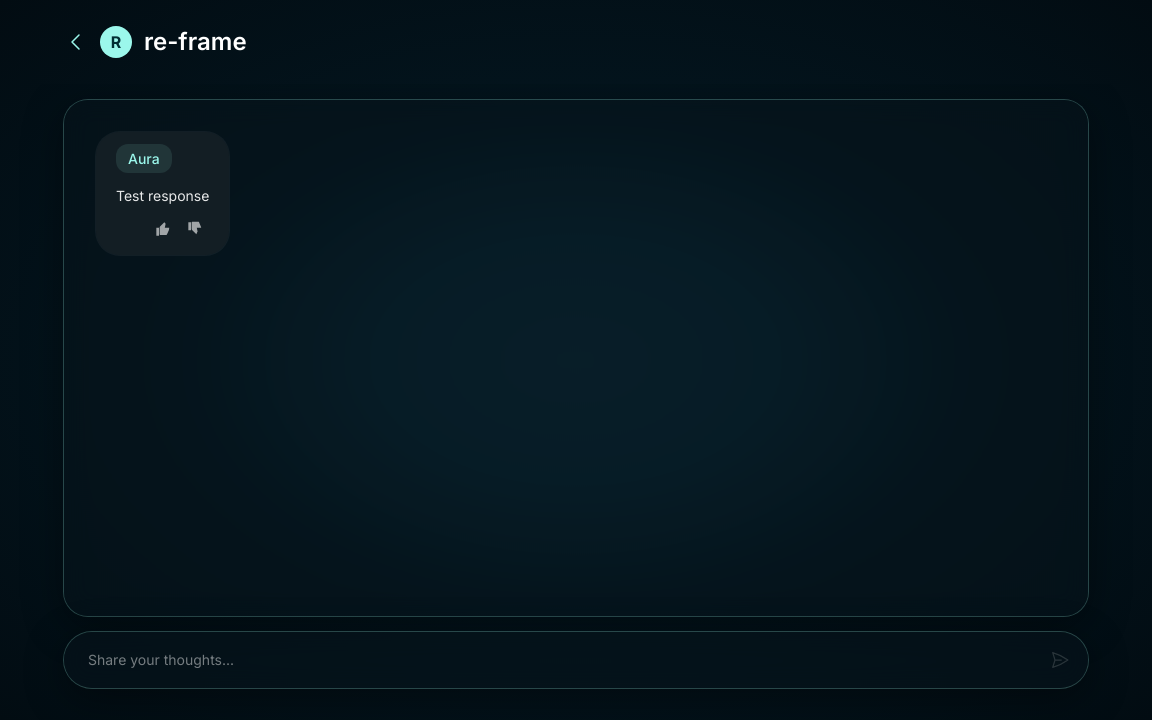
Test: ChatClient - Inline Feedback › allows entering and sending feedback with note
The width and height of the screenshot is (1152, 720).
Check: the text "Test response" is shown, box [116,185,209,207]
Click thumbs down
Click the button named "Thumbs down". click: click(195, 229)
box: [181,215,209,243]
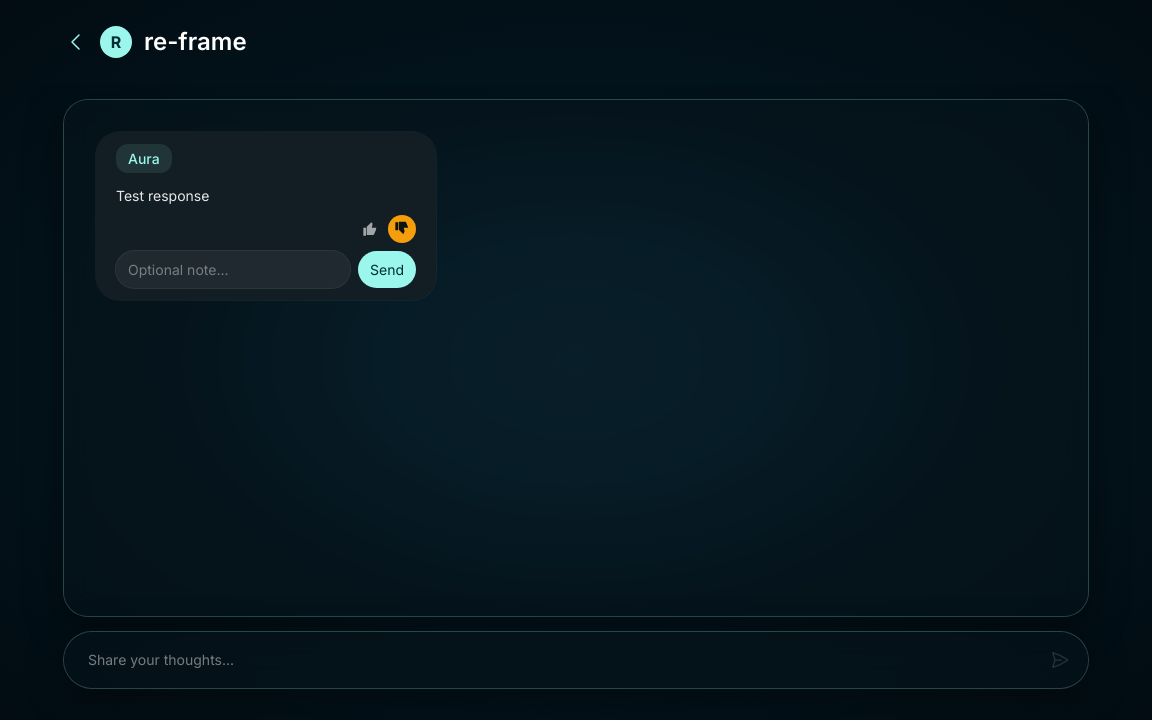
Enter note
Type "Could be better" into the field with placeholder "Optional note…". click: (233, 270)
box: [116,251,350,288]
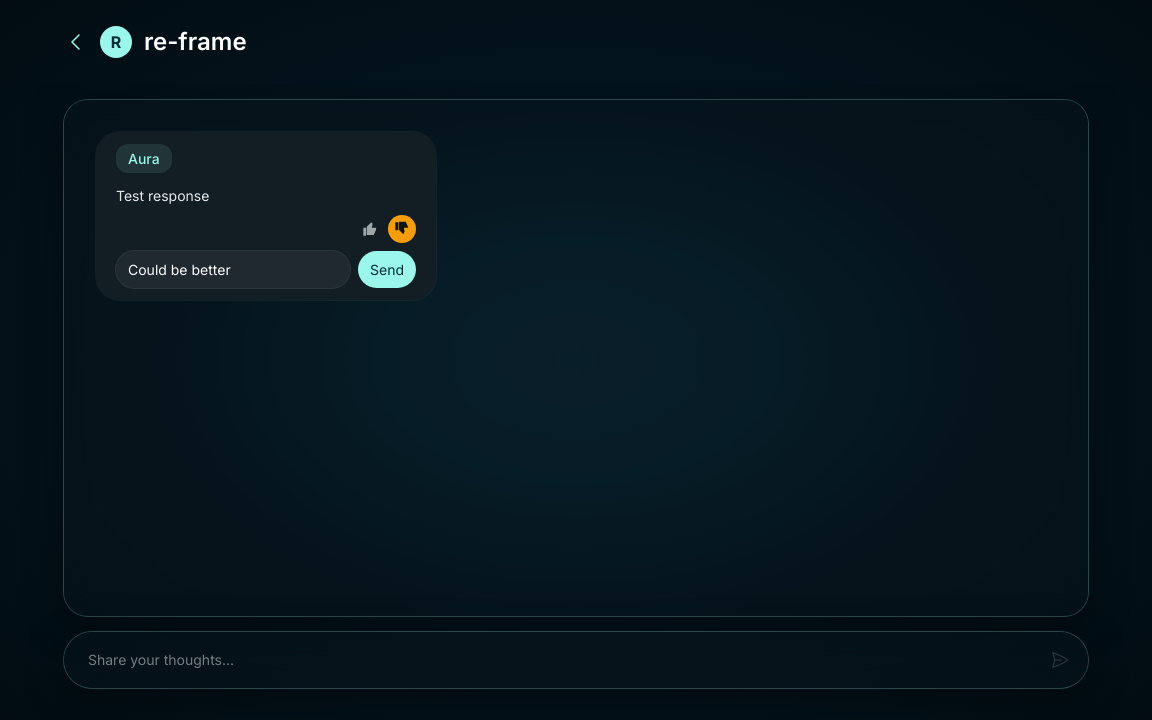
Click the Send button for the note by role (scoped within the note row)
Click the button "Send". click: click(387, 270)
box: [358,251,416,288]
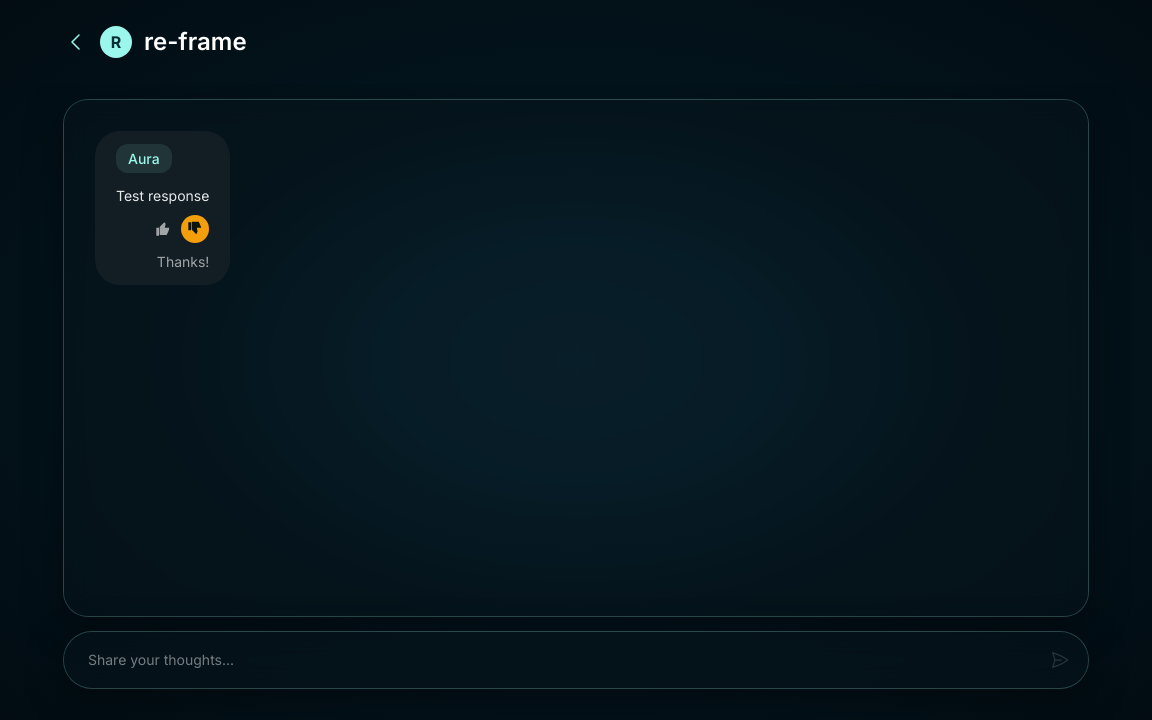
Check: the text "Thanks!" is shown, box [157,251,209,272]
